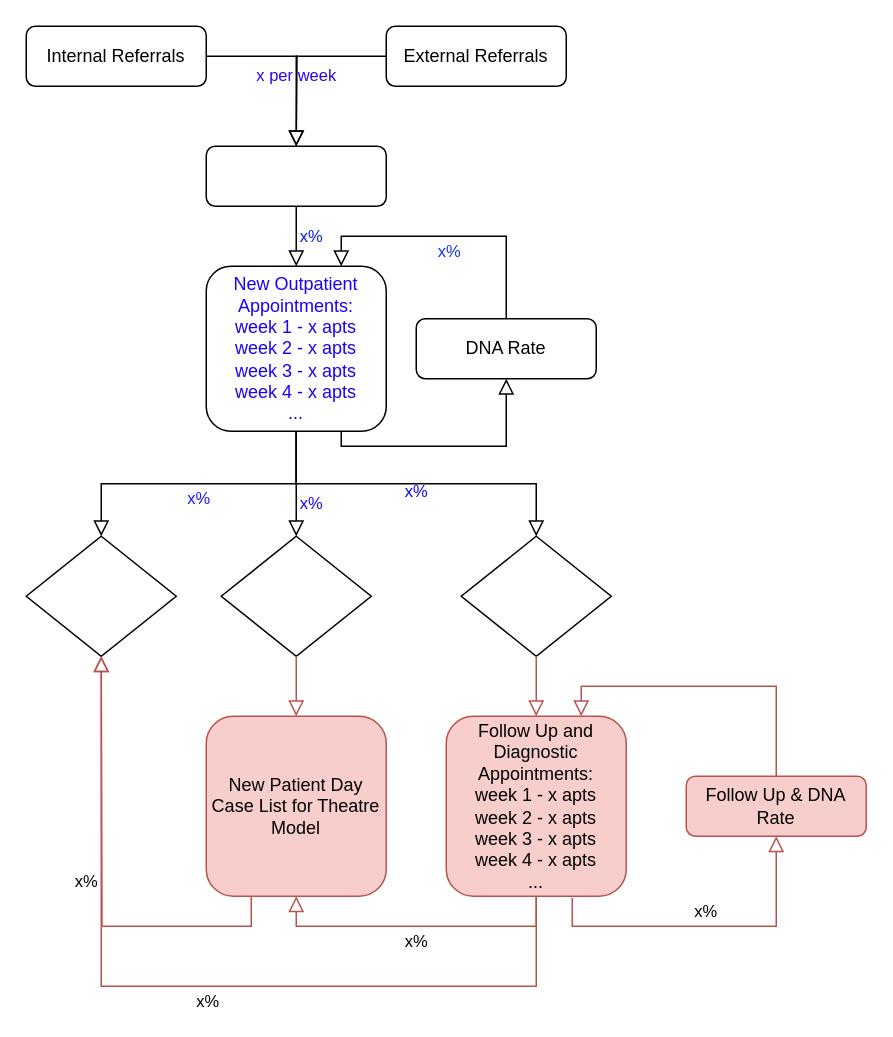
Some shapes in this 893 by 1037 pixel diagram are drawn without their labels. The centre of each missing label's shape, as x and y in pixels:
"Discharge" belongs at [100,595].
"Follow Up" belongs at [535,595].
"ROT Rate" belongs at [295,175].
"Treatment" belongs at [295,595].
